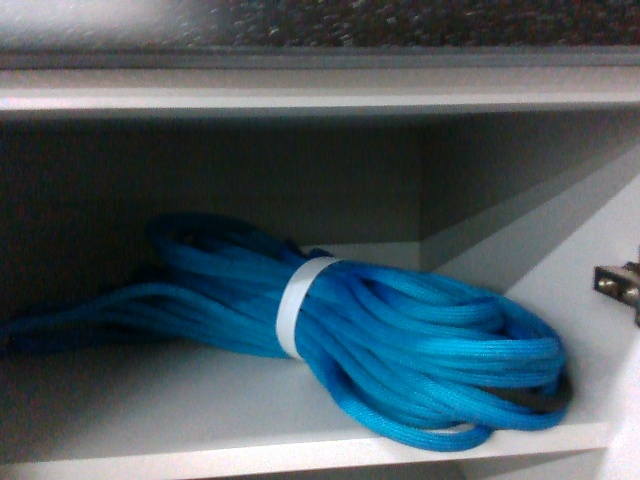rope: (139, 232, 570, 441)
